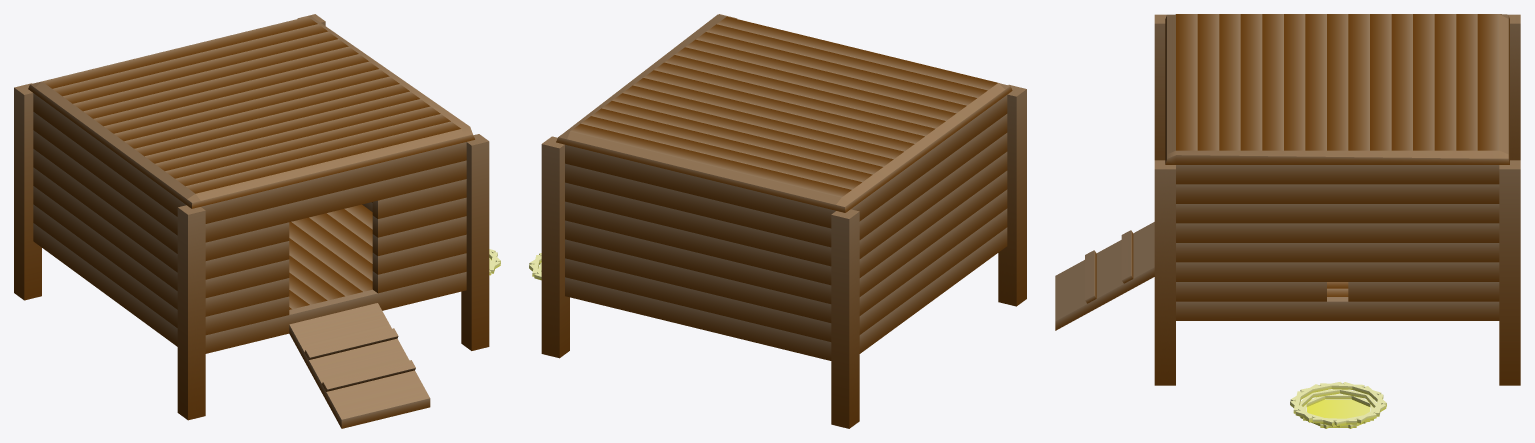
Rendered from Gallinero (3).FBX.
3 renders of one model, left to right at view 1: azimuth 30°, elevation 25°; view 2: azimuth 150°, elevation 25°; view 3: azimuth 270°, elevation 25°, orthographic. The views are drawn at different scales.
Visible parts, largest first — view 1: Gallinero; view 2: Gallinero; view 3: Gallinero.
Boxes of the visible parts, <box> form: Gallinero: <box>14,14,500,428</box>; Gallinero: <box>529,14,1026,428</box>; Gallinero: <box>1055,14,1520,428</box>.
Size of the model in its own units: 222 by 116 by 216.
1 material, 1 textured.
